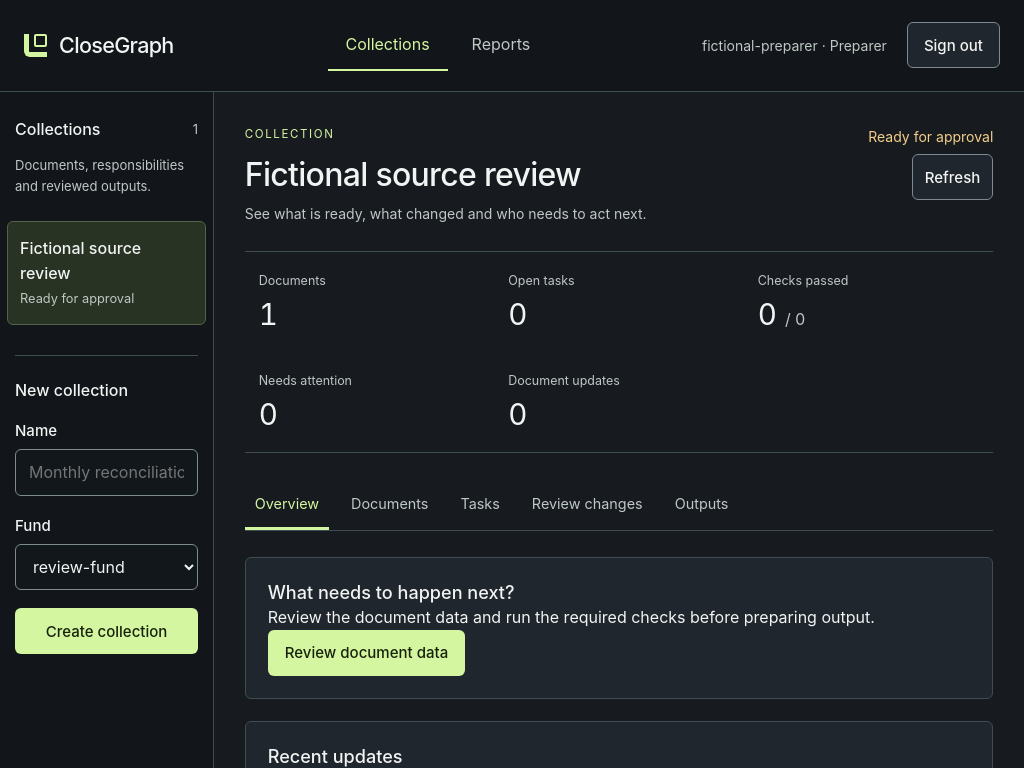
Test case: collection evidence review › does not expose approval controls to the preparer
Click the button "Outputs": point(702, 505) [665,480,738,530]
(page scrolled)
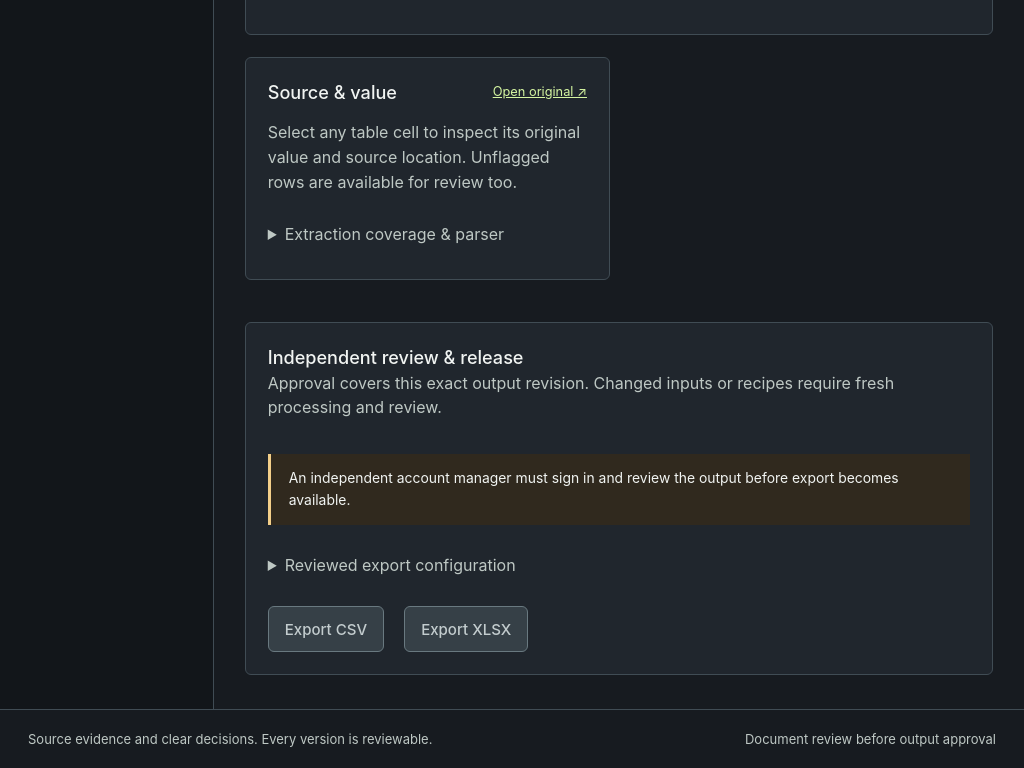
Now the button "Export XLSX" is disabled, box [404,606,528,652]
